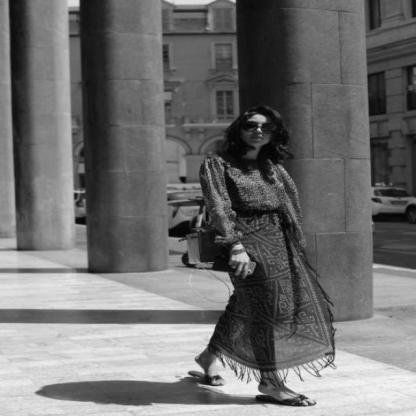person: (178, 107, 322, 408)
